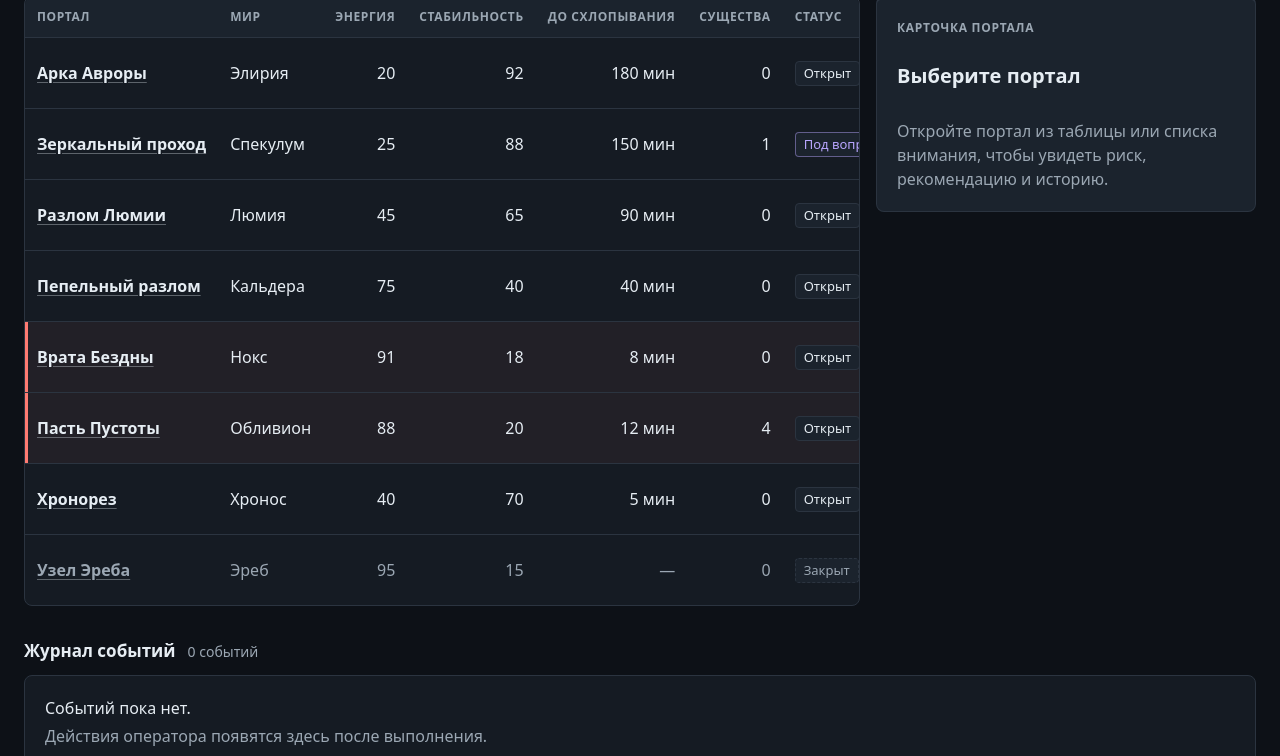
Test: Действия над порталами › отправка наблюдателя после стабилизации не меняет портал, но попадает в историю
(page scrolled)
Click the button "Врата Бездны". click: (95, 357)
box: [37,345,154,369]
(page scrolled)
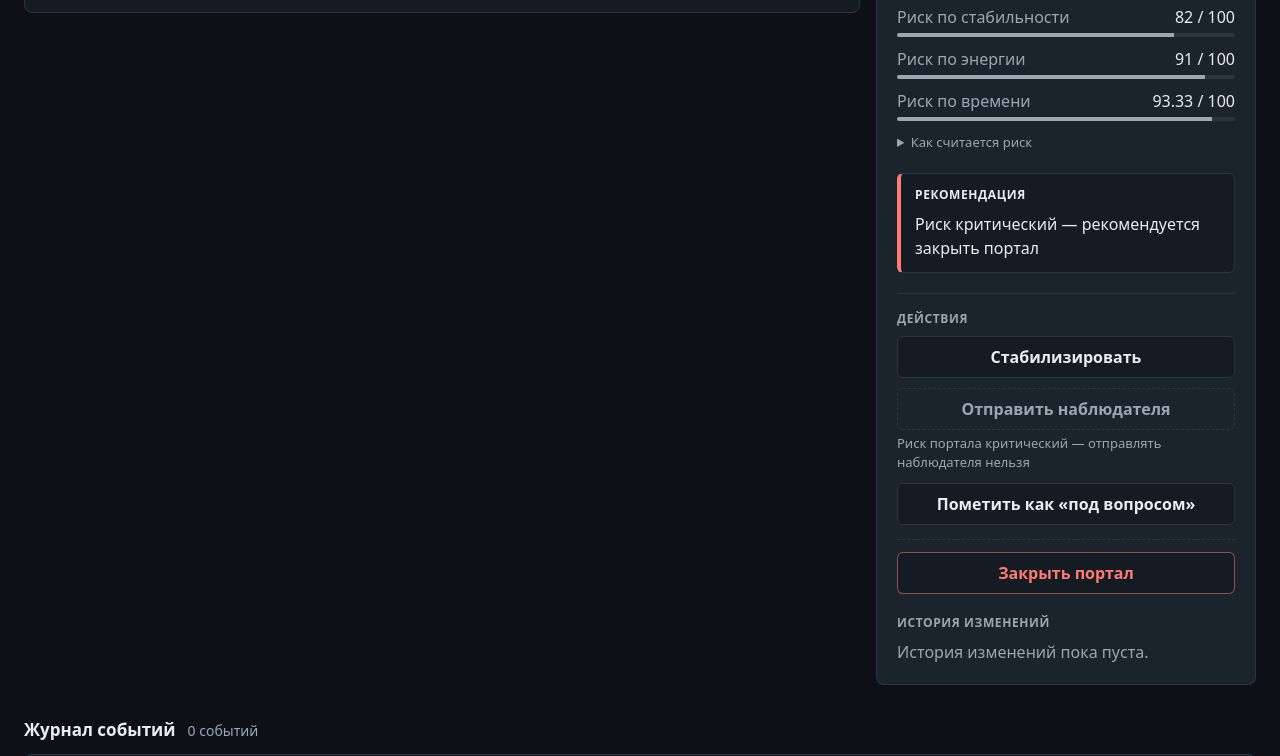
Click the button "Стабилизировать". click: (1066, 357)
box: [897,336,1235,378]
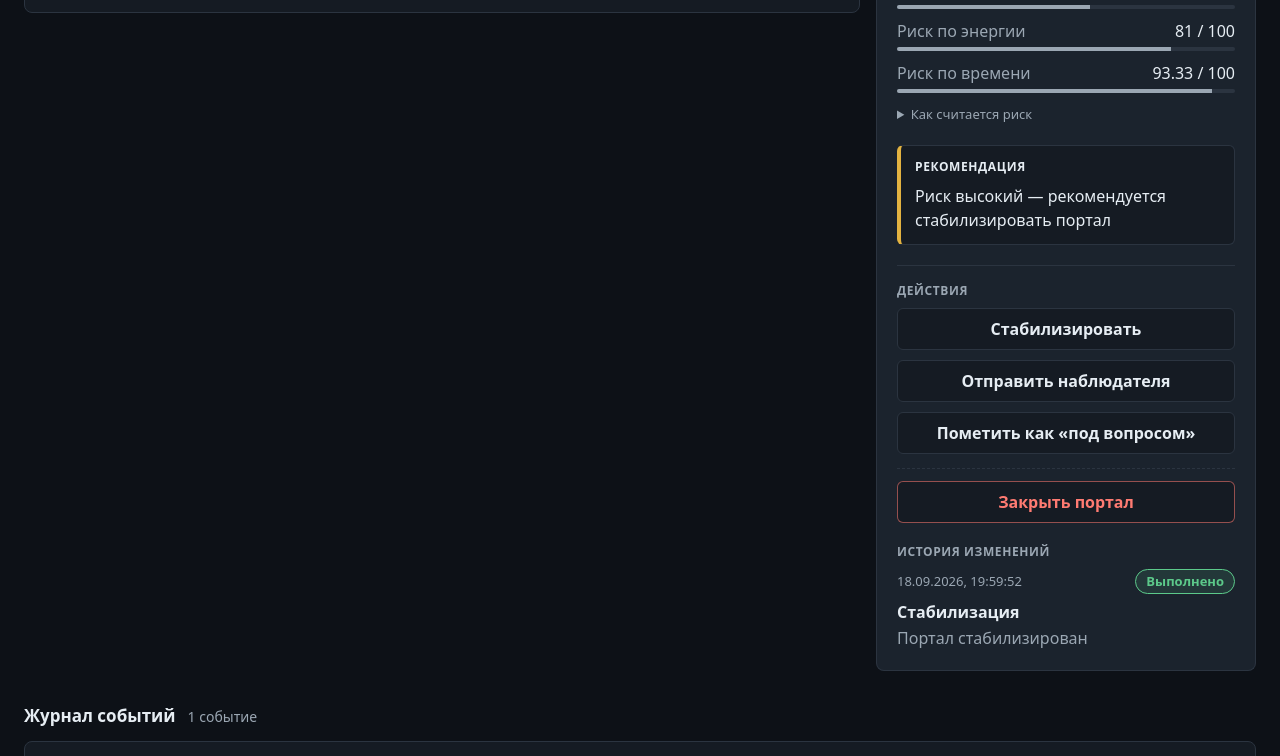
Click the button "Отправить наблюдателя". click: (1066, 381)
box: [897,360,1235,402]
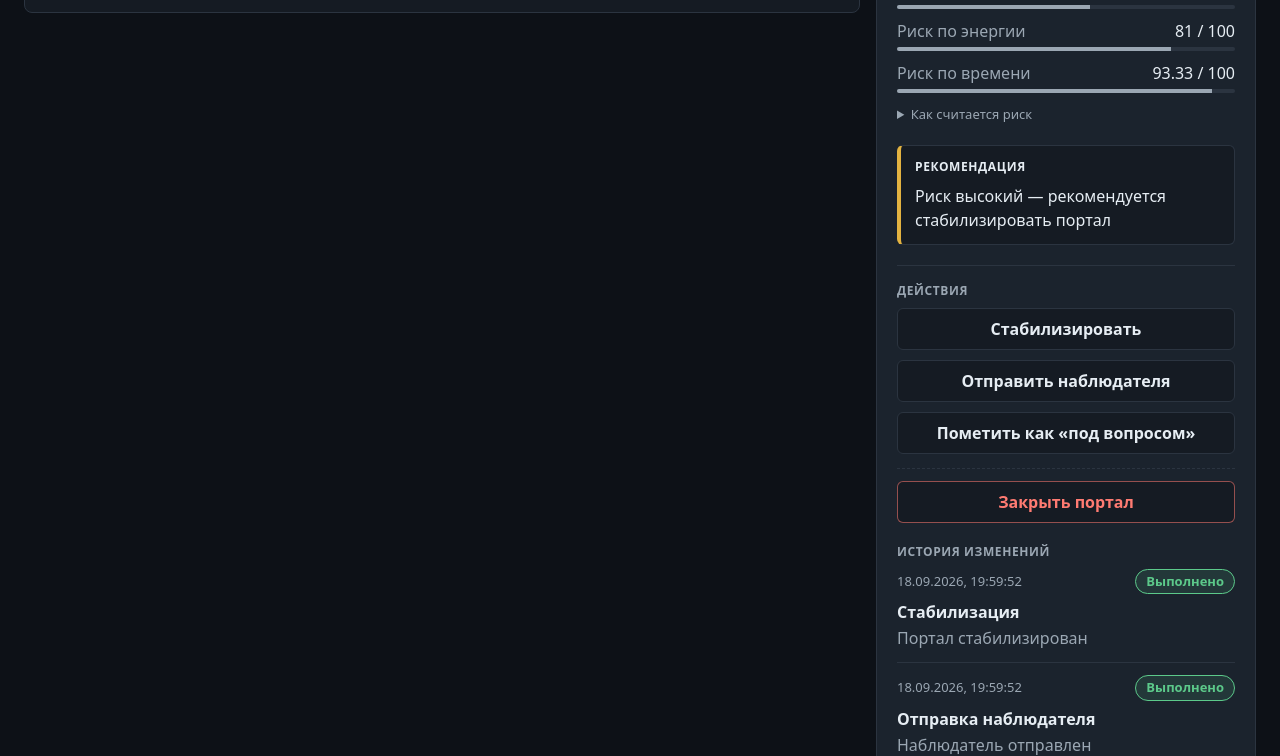
Result: the text "Стабилизация" is shown at [897,601,1020,623]
Result: the 1st text "Выполнено" is shown at [1135,569,1235,594]
Result: the text "Отправка наблюдателя" is shown at [897,708,1095,730]
